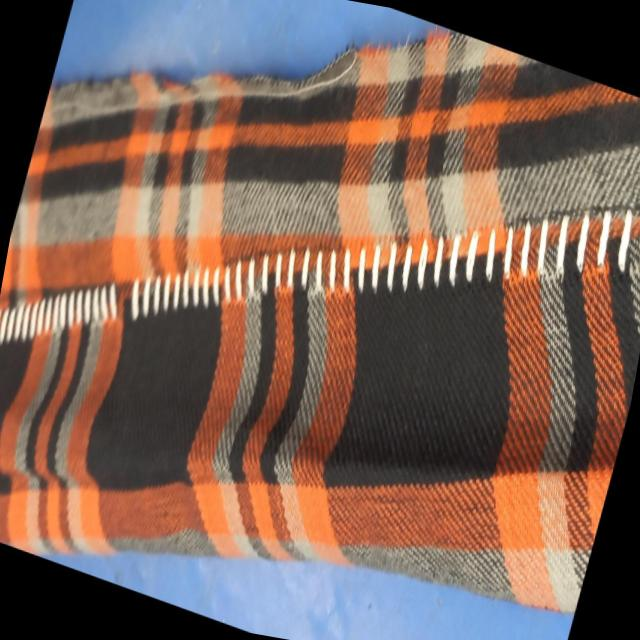gray stitch: (220, 148, 530, 386), (0, 211, 227, 424), (514, 153, 640, 302)
